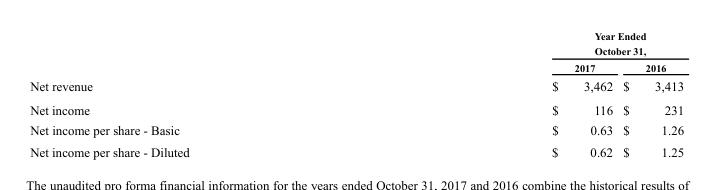table: (29, 29, 683, 158)
table column: (29, 29, 369, 158), (369, 29, 617, 158), (617, 29, 683, 158)
table column header: (29, 29, 683, 76)
table row: (29, 29, 683, 59), (29, 97, 683, 119), (29, 76, 683, 97), (29, 119, 683, 140), (29, 140, 683, 158), (29, 59, 683, 76)
table spanning cell: (369, 29, 683, 59)
